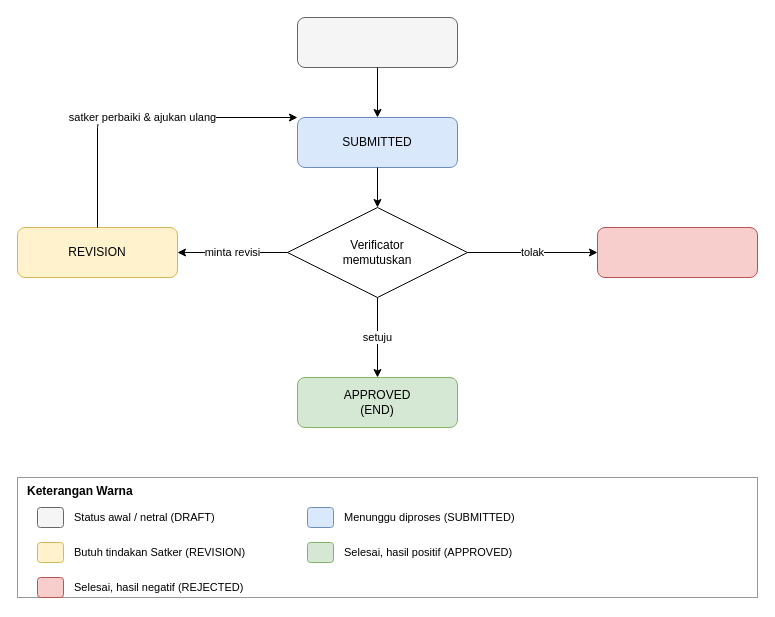
Image size: 775x617. Some labels were removed from this diagram. The shapes that lost their labels are listed below. From the top down, each one's centre as x and y in pixels, then its label:
the point at 377,42: DRAFT
the point at 677,252: REJECTED (END)
